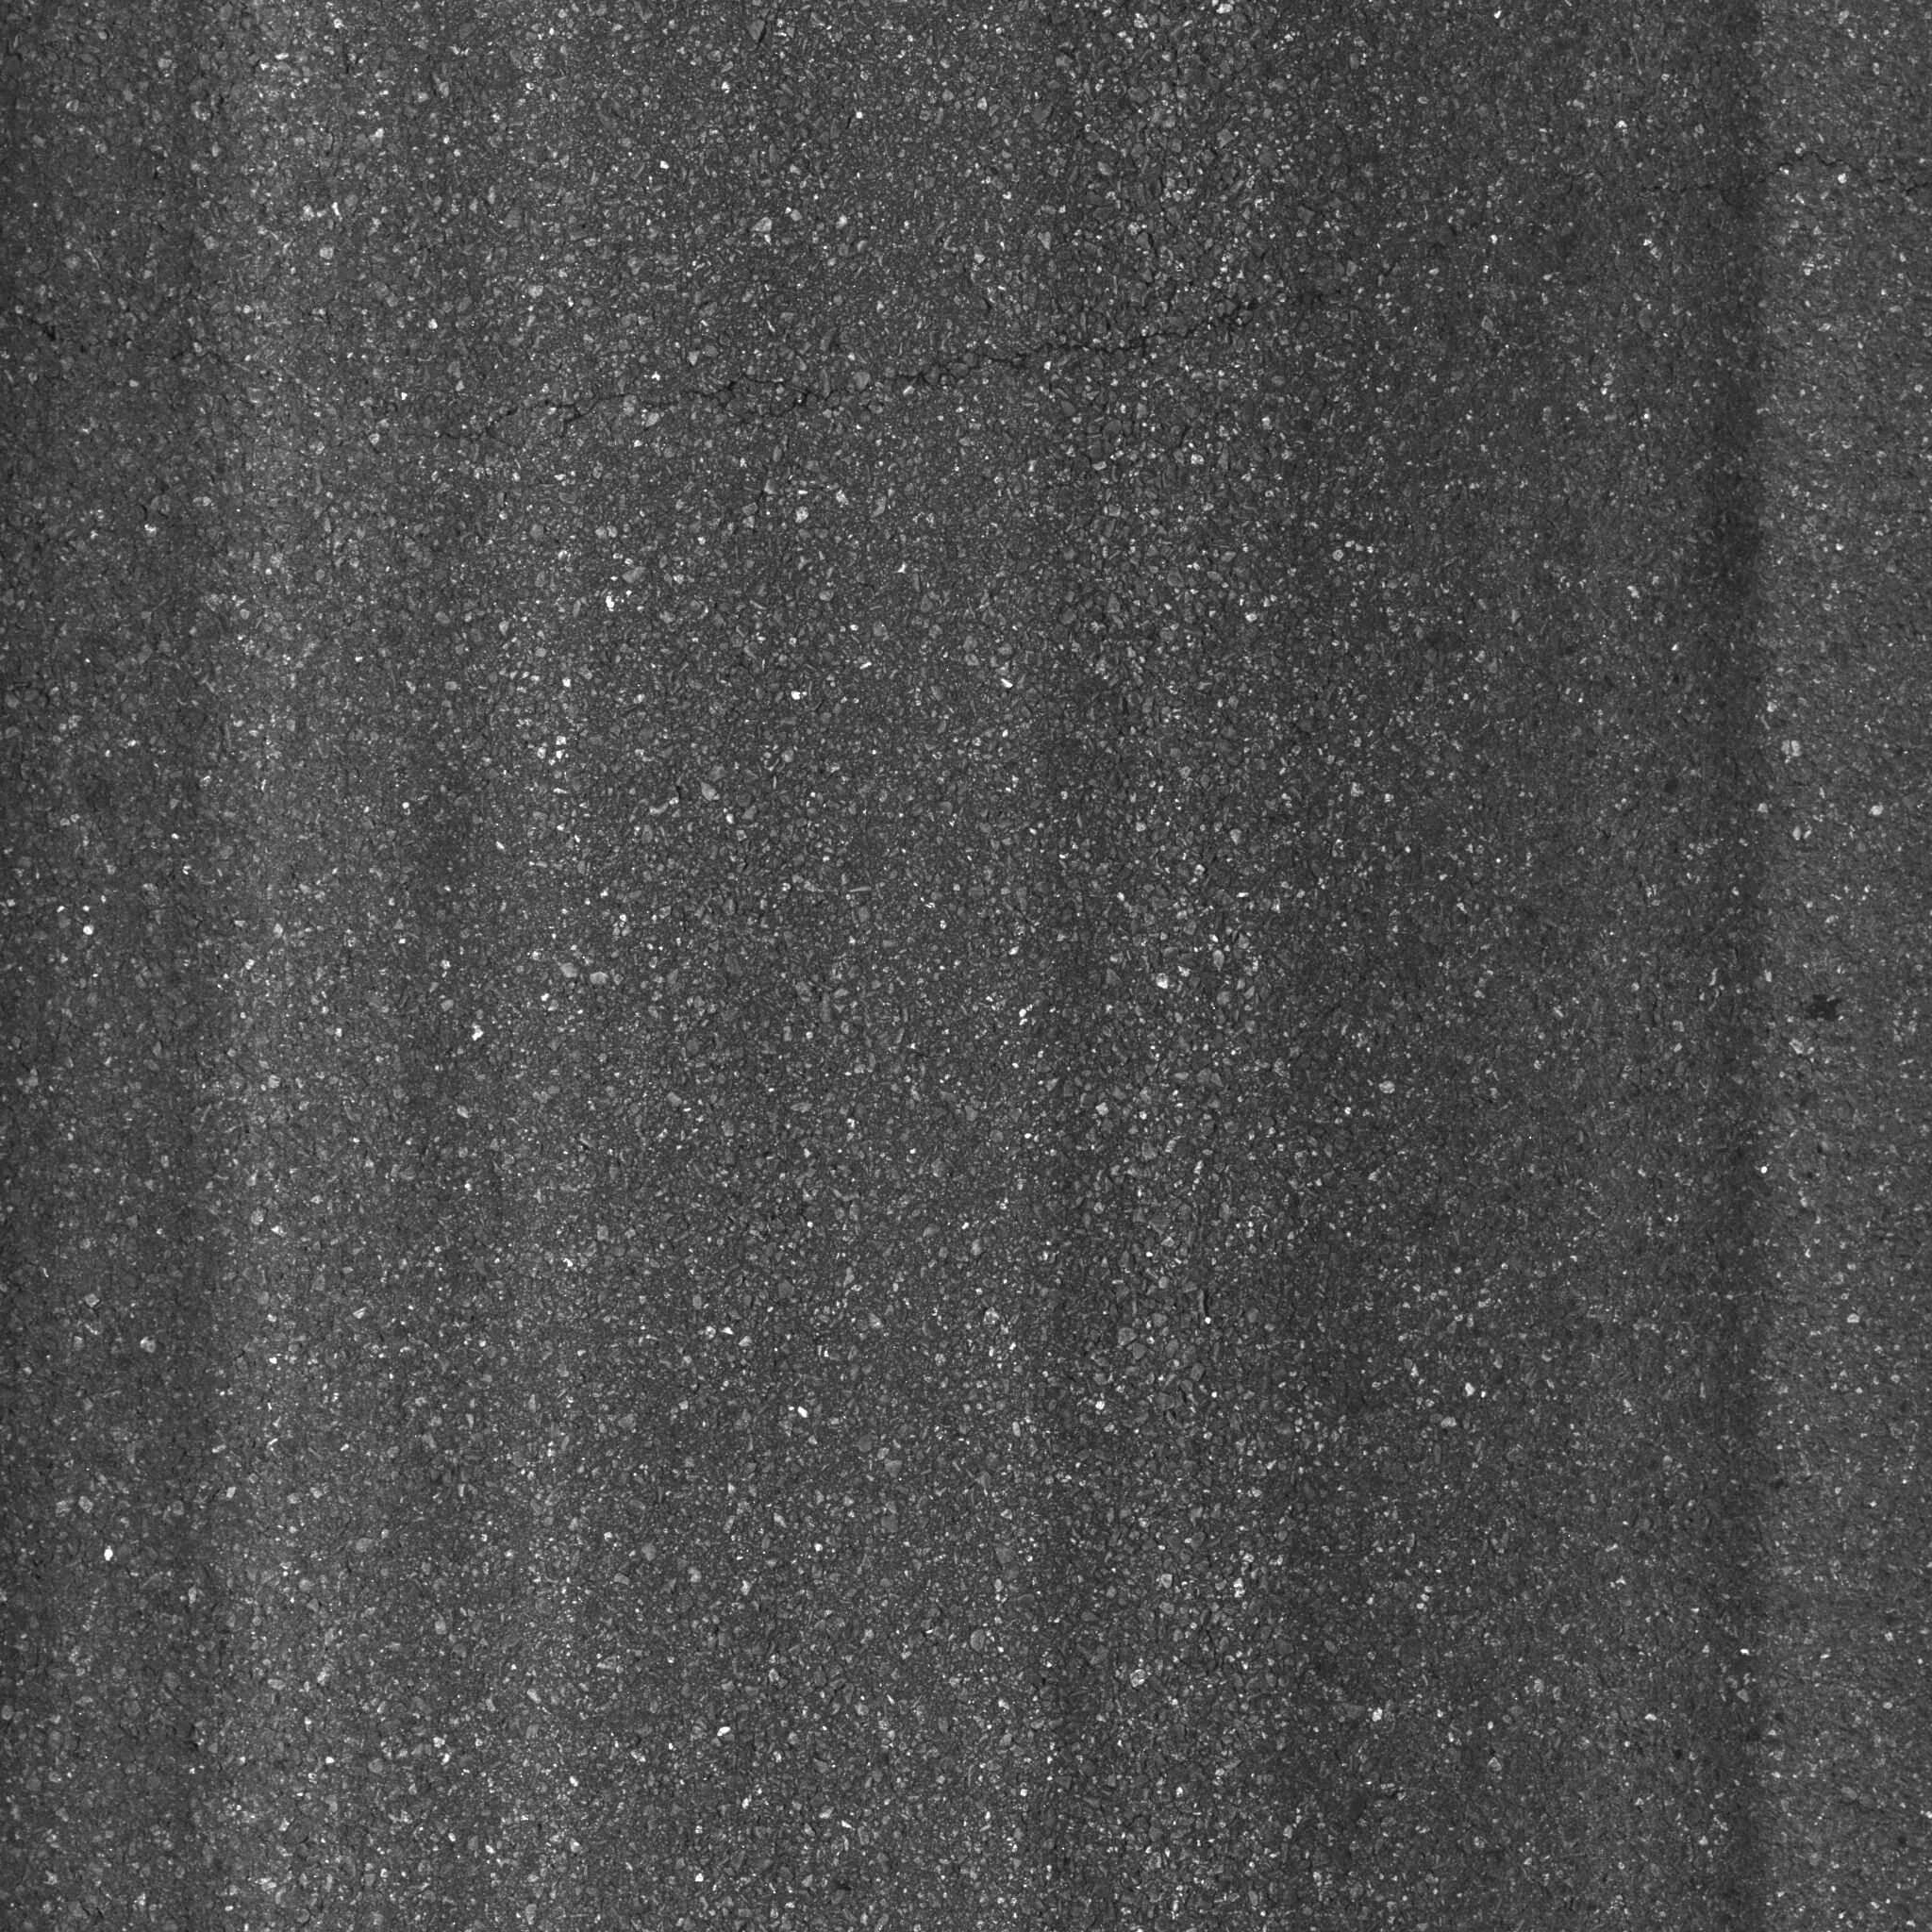transeverse: (456, 221, 1522, 460)
